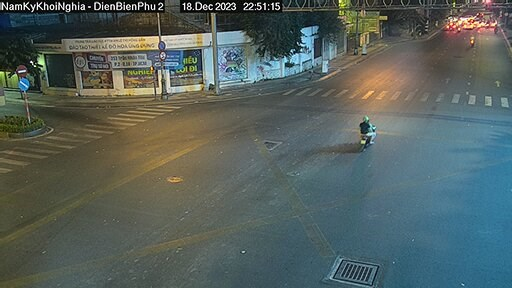motorbike: (354, 114, 381, 152)
